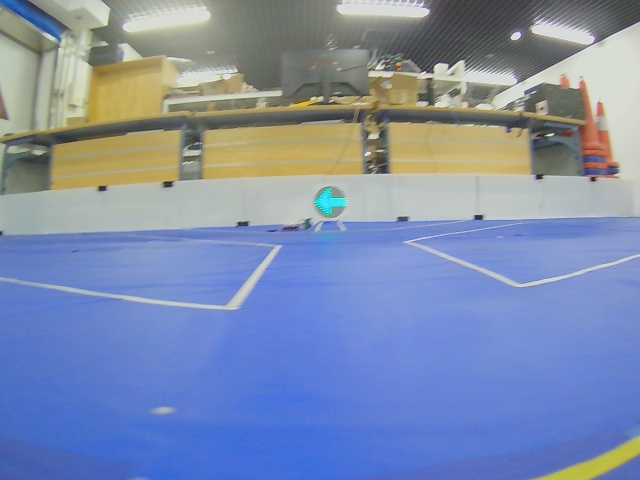left_green: (314, 187, 348, 218)
